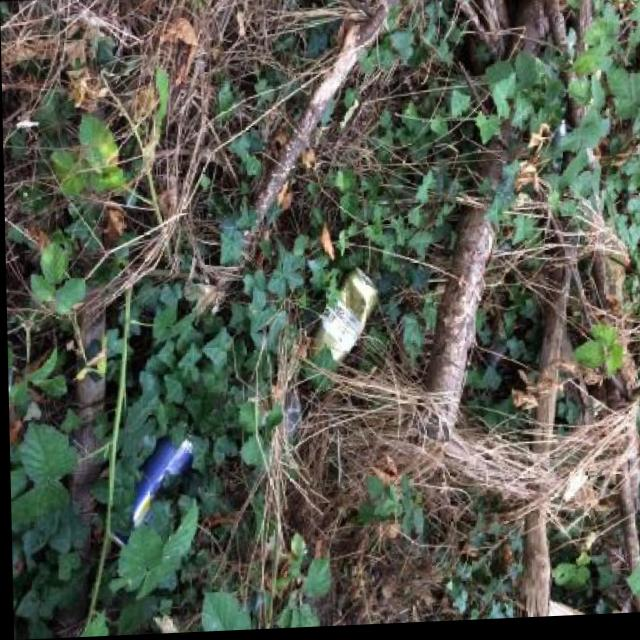metal: (109, 427, 195, 549), (303, 265, 380, 380)
